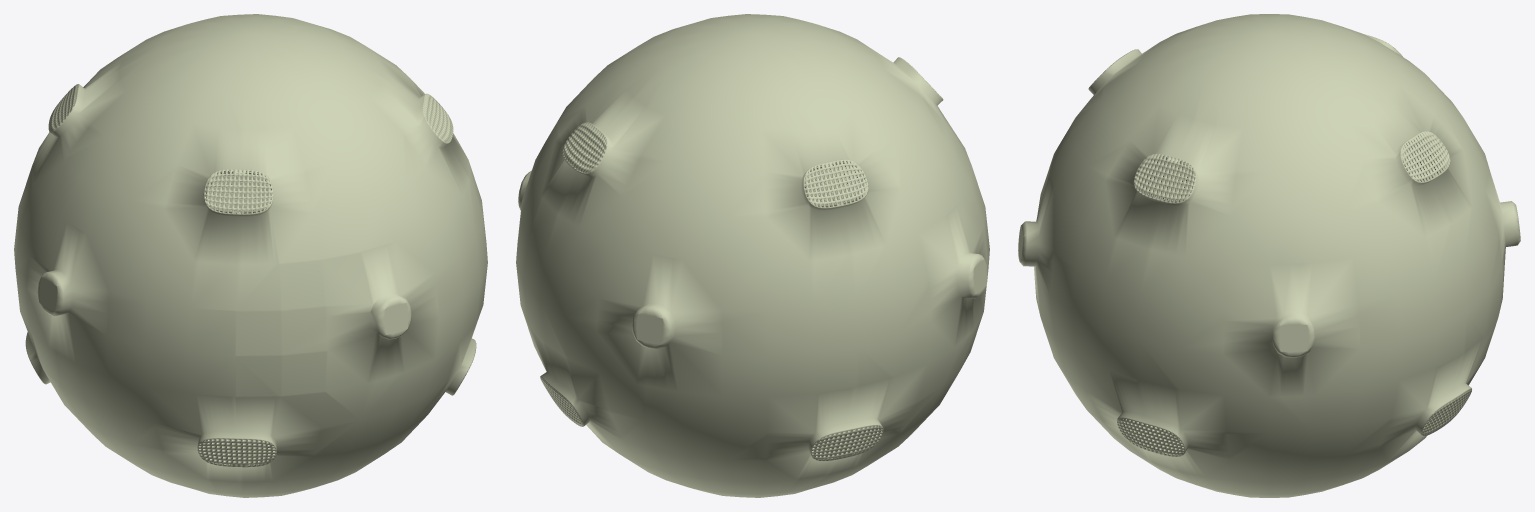
File: emitter.obj
The picture shows the model from 3 angles, left to right: view 1: azimuth 30°, elevation 25°; view 2: azimuth 150°, elevation 25°; view 3: azimuth 270°, elevation 25°; orthographic projection.
Visible parts, largest first — view 1: sphere1; view 2: sphere1; view 3: sphere1.
Boxes of the visible parts, x1=… form: sphere1: x1=14, y1=14, x2=487, y2=497; sphere1: x1=516, y1=14, x2=989, y2=497; sphere1: x1=1018, y1=14, x2=1520, y2=497.
Size of the model in its own units: 2.03 by 1.98 by 2.03.
